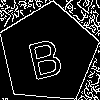B: (23, 28, 66, 81)
